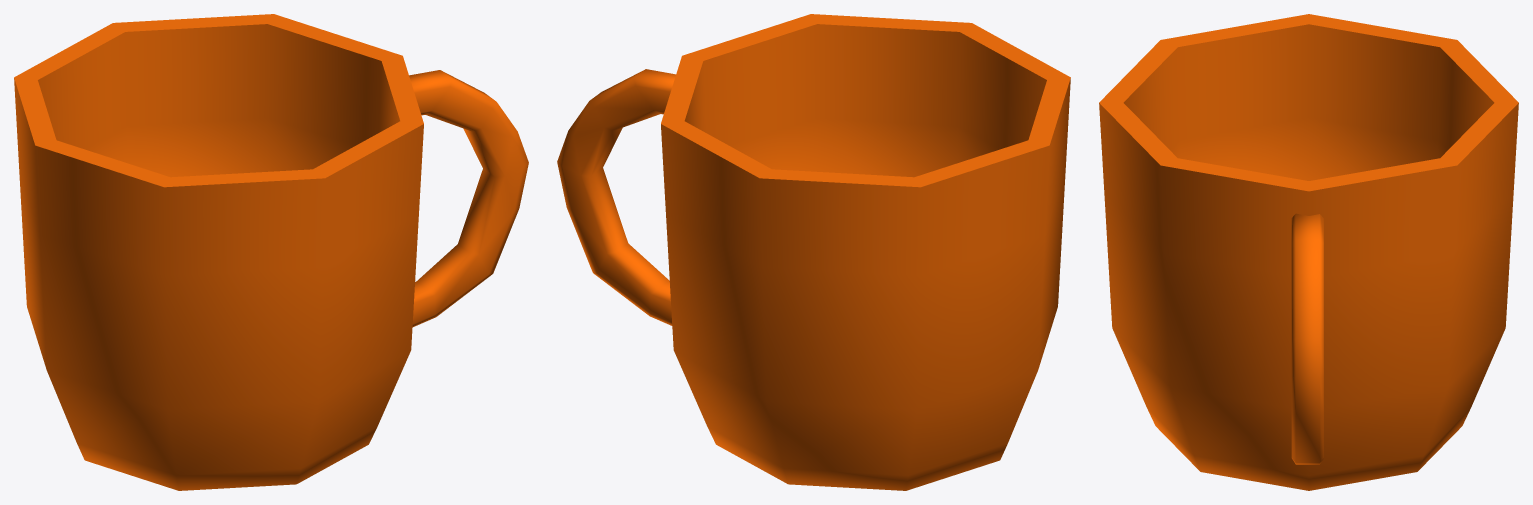
The model's file is Coffee_Cup_18.FBX.
3 views of the same model, side by side, from view 1: azimuth 30°, elevation 25°; view 2: azimuth 150°, elevation 25°; view 3: azimuth 270°, elevation 25° (orthographic).
Parts seen in each view (by area): view 1: Coffee Cup; view 2: Coffee Cup; view 3: Coffee Cup.
Part boxes in pixels (x1,y1,x2,y2): Coffee Cup: (14,14,528,490); Coffee Cup: (557,14,1070,490); Coffee Cup: (1099,14,1518,490).
Size of the model in its own units: 44.01 by 28.24 by 33.22.
